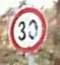limite 30: (7, 5, 47, 54)
